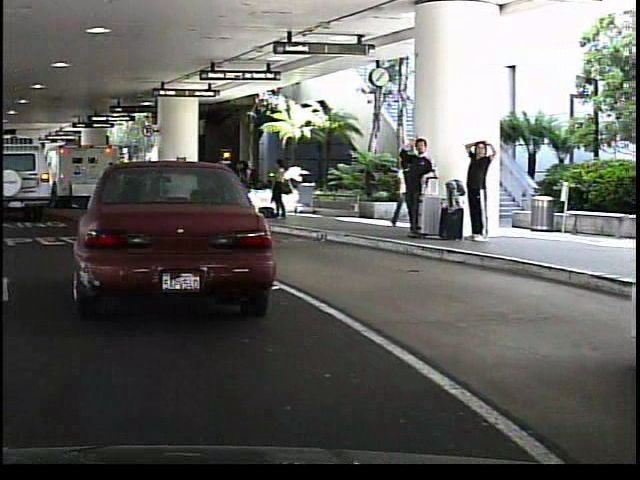person: (395, 134, 436, 240), (459, 132, 497, 241), (266, 158, 291, 224), (390, 154, 411, 229)
